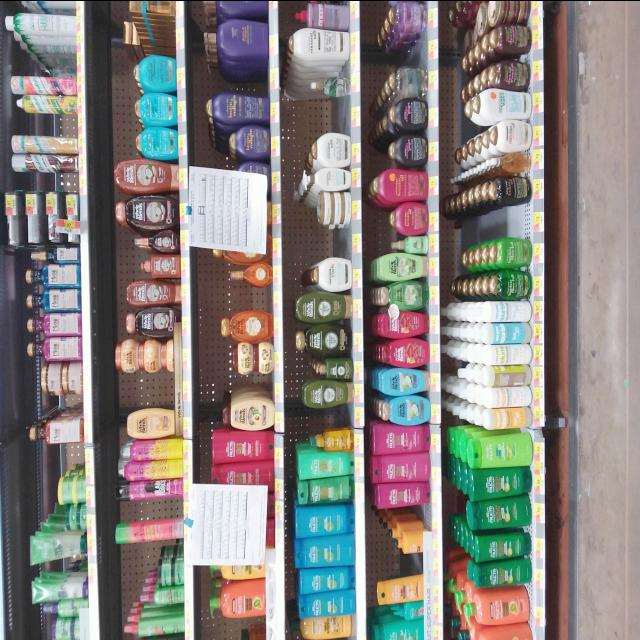empty_space: (451, 206, 525, 238), (286, 99, 348, 133), (116, 373, 173, 405), (291, 225, 349, 255), (23, 444, 85, 472), (203, 617, 257, 639), (121, 500, 180, 515)
